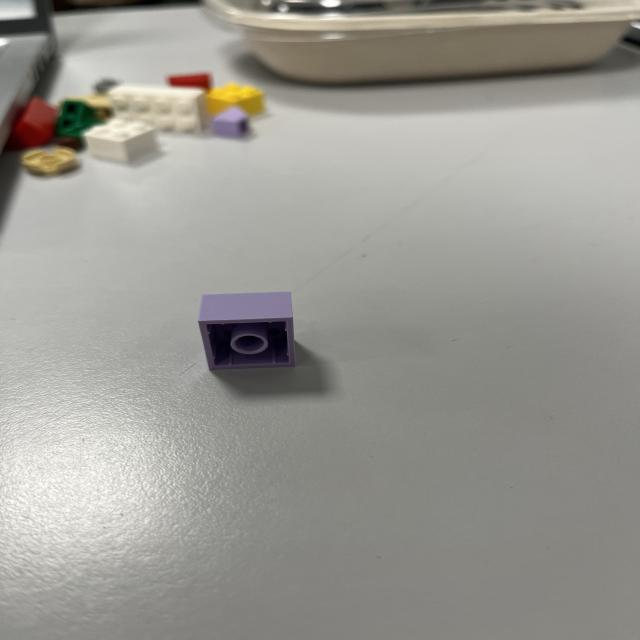C2x2x1: (196, 290, 296, 371)
